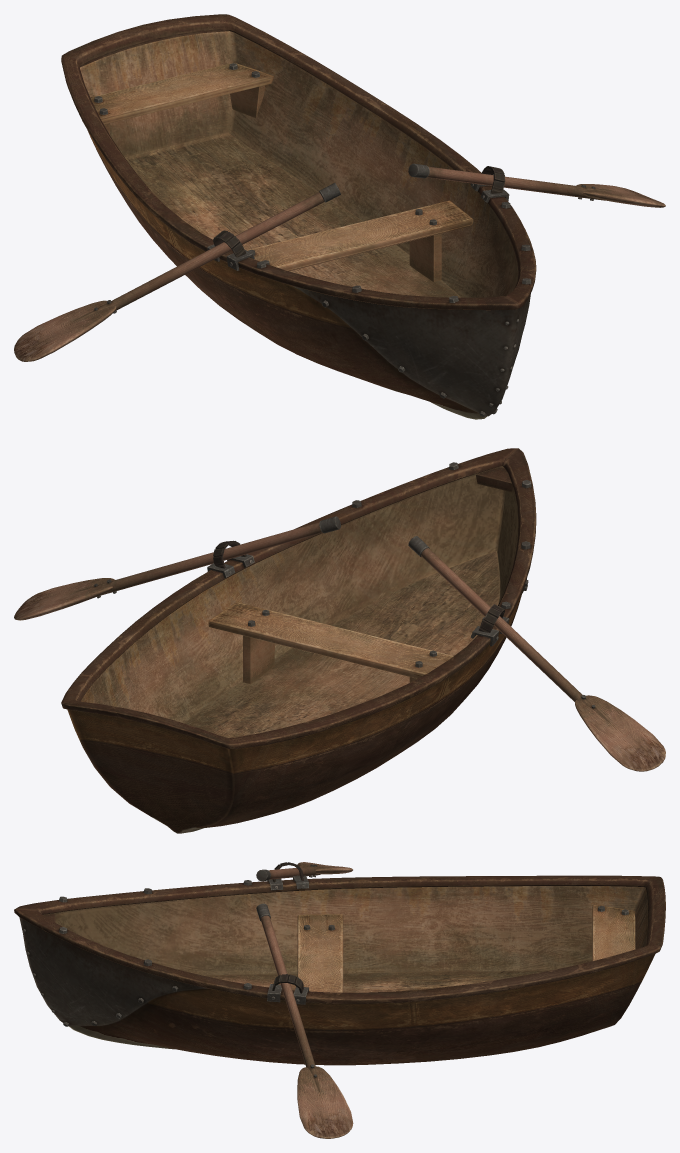
Rendered from boat.glb.
The picture shows the model from 3 angles, top to bottom: view 1: azimuth 30°, elevation 25°; view 2: azimuth 150°, elevation 25°; view 3: azimuth 270°, elevation 25°; orthographic projection. The views are drawn at different scales.
Parts seen in each view (by area): view 1: node_id30; view 2: node_id30; view 3: node_id30.
Part boxes in pixels (x1,y1,x2,y2): node_id30: (14,14,665,419); node_id30: (14,448,665,833); node_id30: (14,862,665,1138).
Bounding box in the file's own units: 0.512 × 0.149 × 0.52.
1 material, 1 textured.
